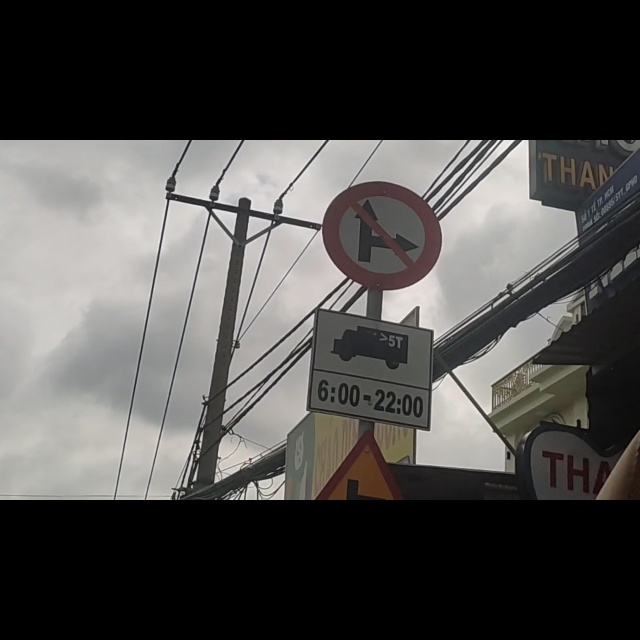bien_nguy_hiem: (316, 70, 443, 264), (311, 301, 432, 499), (309, 512, 415, 640)
